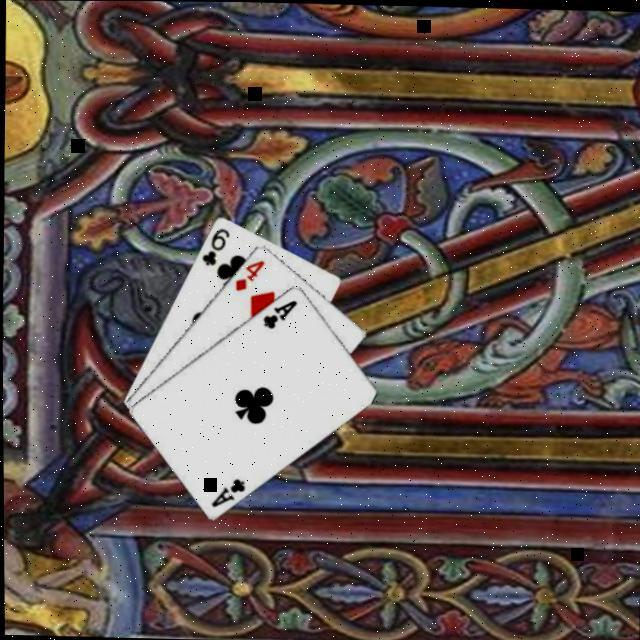4D: (230, 255, 266, 294)
6C: (197, 224, 231, 269)
AC: (205, 474, 246, 511), (258, 296, 298, 332)
